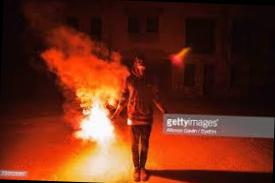Fire: (63, 91, 132, 177)
Smoke: (37, 16, 126, 99)
